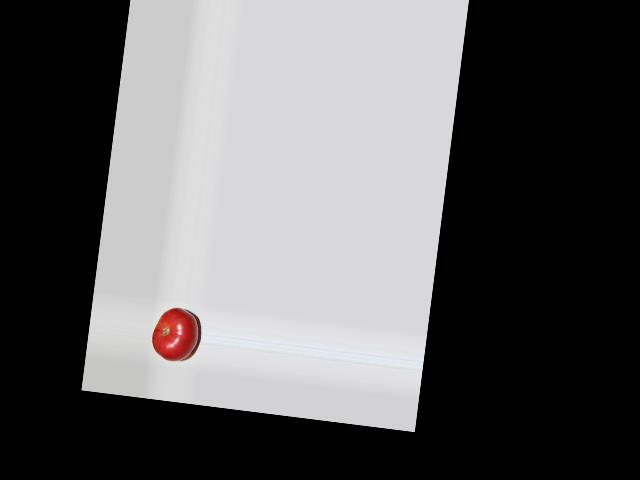tomato: (149, 304, 200, 364)
